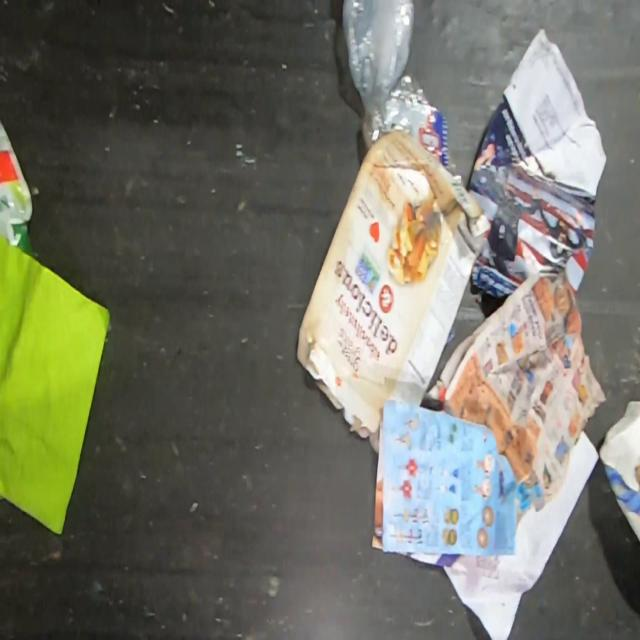cardboard: (296, 127, 491, 438)
rigid_plastic: (342, 0, 431, 150)
soft_plastic: (0, 116, 38, 263)
